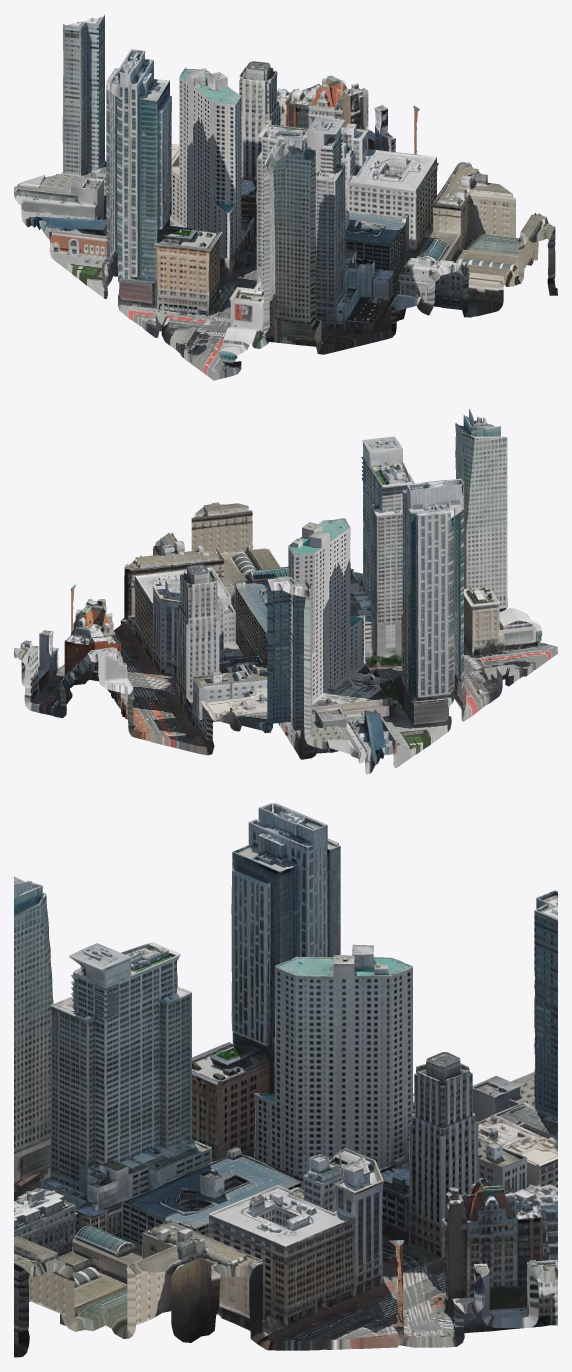
Rendered from z17-20970-50656-h0-yup-uvflip-v3-world.glb.
The picture shows the model from 3 angles, top to bottom: view 1: azimuth 30°, elevation 25°; view 2: azimuth 150°, elevation 25°; view 3: azimuth 270°, elevation 25°; orthographic projection. The views are drawn at different scales.
Bounding box in the file's own units: 242 × 162 × 243.
Materials: 1 (1 with a texture image).
